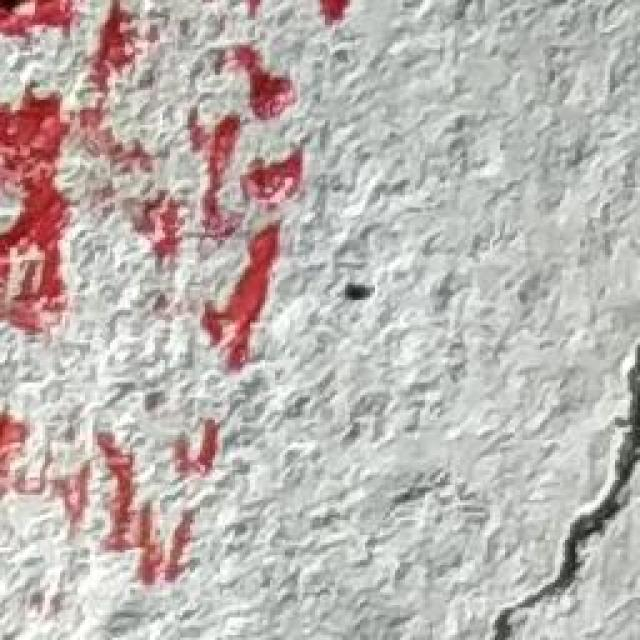Diagonal: (452, 341, 640, 640)
